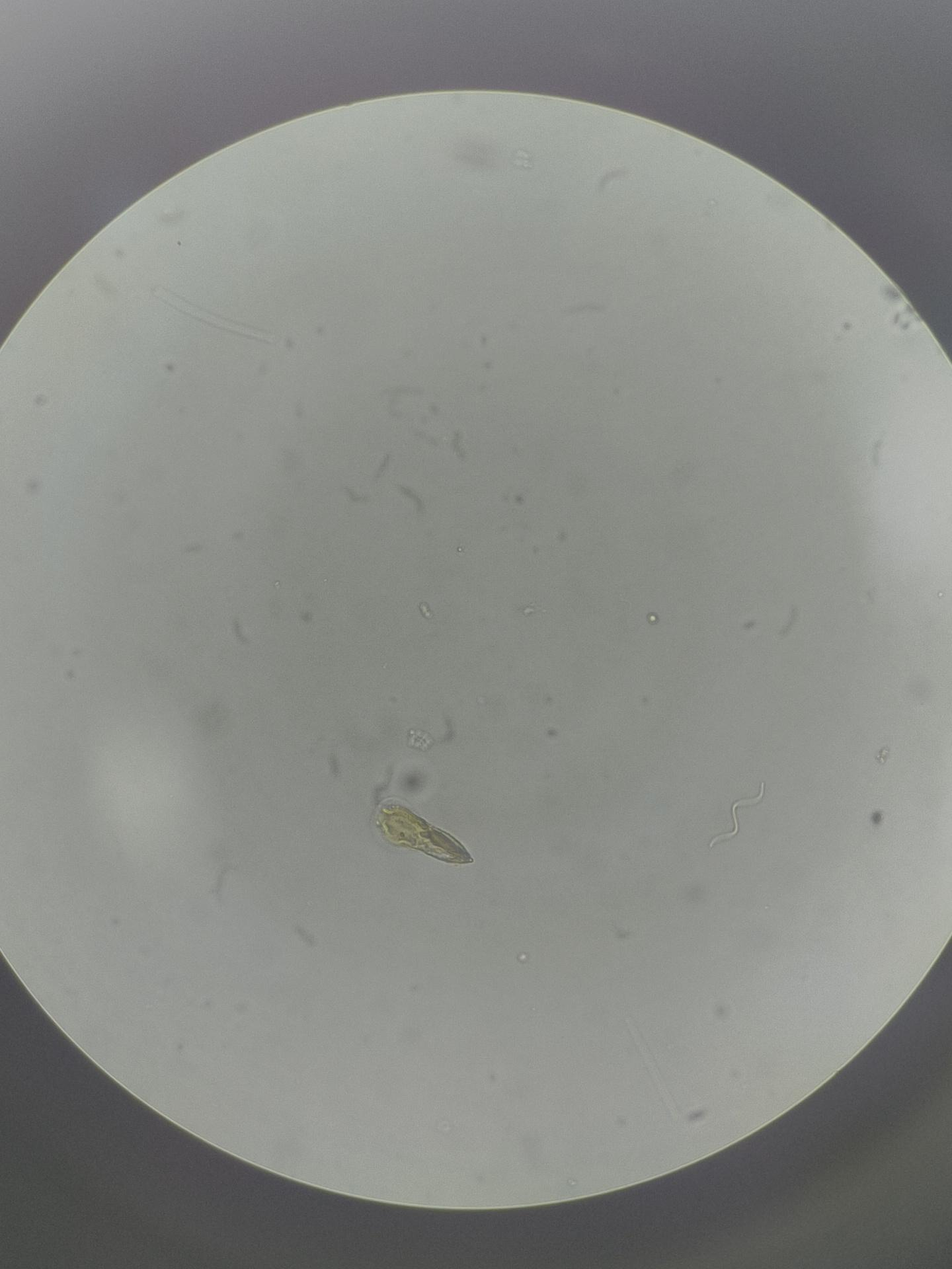Euglena: (352, 778, 497, 876)
